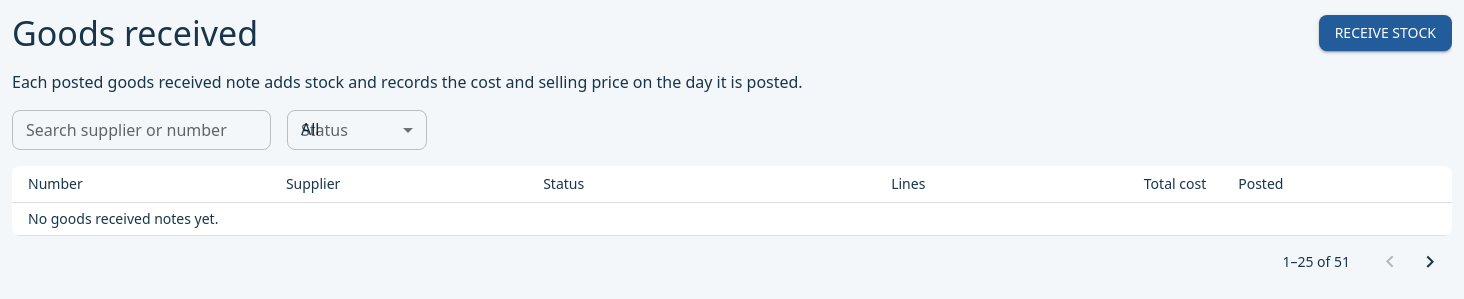
Test case: can reach older documents on /inventory/grn
The image size is (1464, 299).
Click the button named "Go to next page".
click(1430, 262)  # box [1410,242,1450,282]
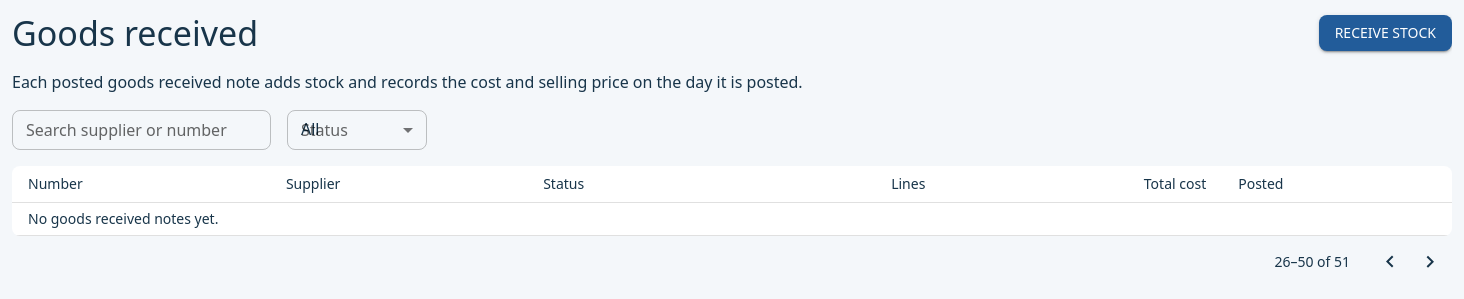
Now the text "26–50 of 51" is shown, box [1274,252,1350,272]
